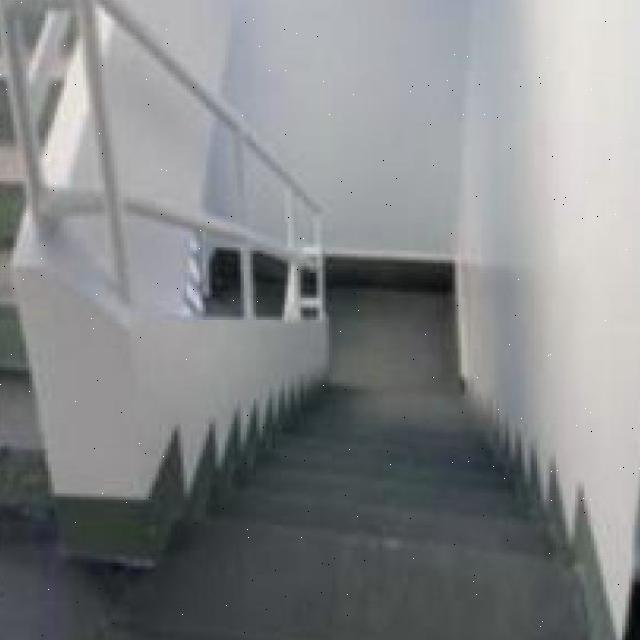stair: (206, 367, 575, 573)
